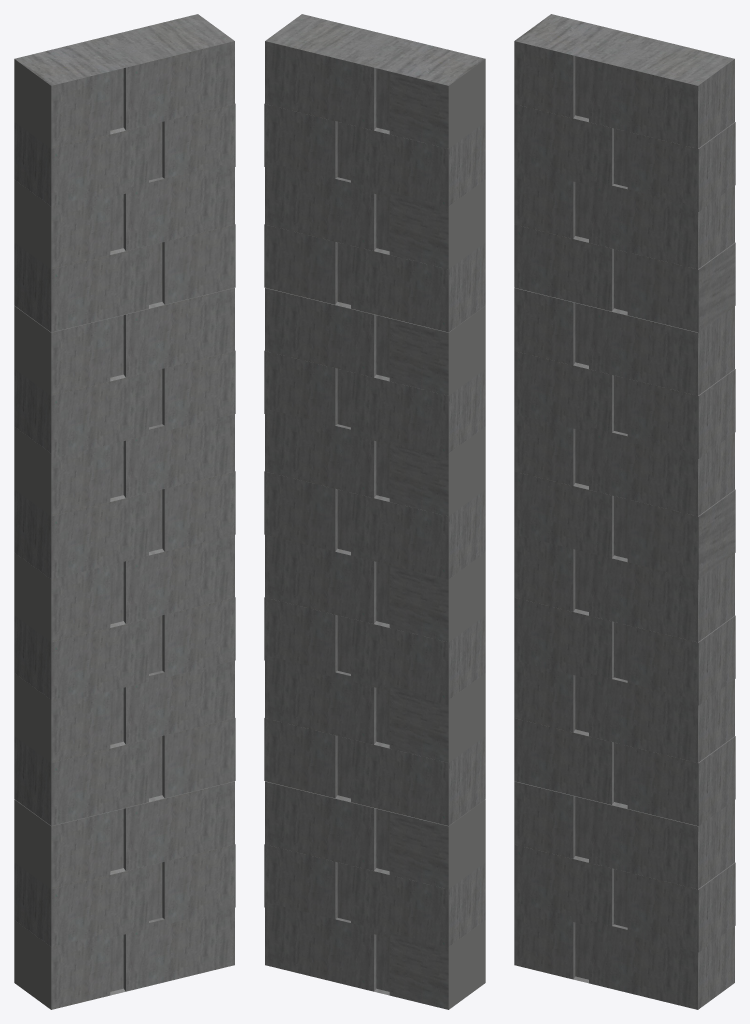
Rendered from Brick_Wall_Skiny_Clg.fbx.
3 renders of one model, left to right at view 1: azimuth 30°, elevation 25°; view 2: azimuth 150°, elevation 25°; view 3: azimuth 330°, elevation 25°, orthographic.
Visible parts, largest first — view 1: polySurface11; view 2: polySurface11; view 3: polySurface11.
Part boxes in pixels (x1=…): polySurface11: x1=14, y1=14, x2=235, y2=1009; polySurface11: x1=264, y1=14, x2=485, y2=1009; polySurface11: x1=514, y1=14, x2=735, y2=1009.
Bounding box in the file's own units: 5.27 × 25.21 × 1.83.
